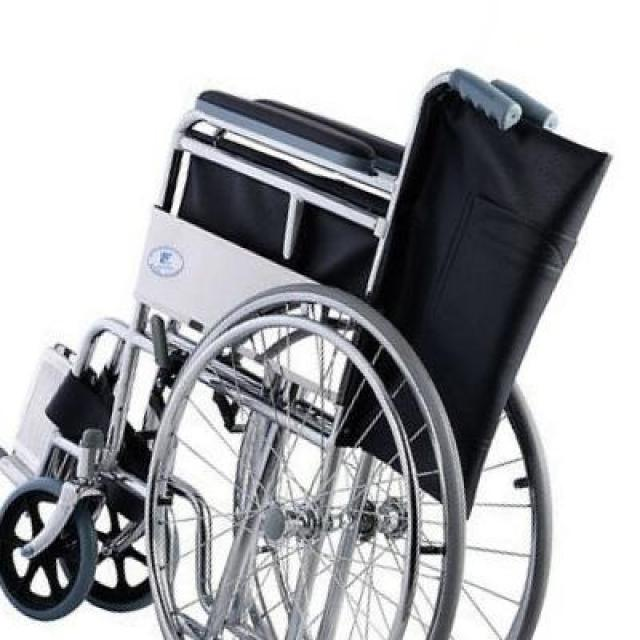wheelchair: (17, 64, 617, 633)
